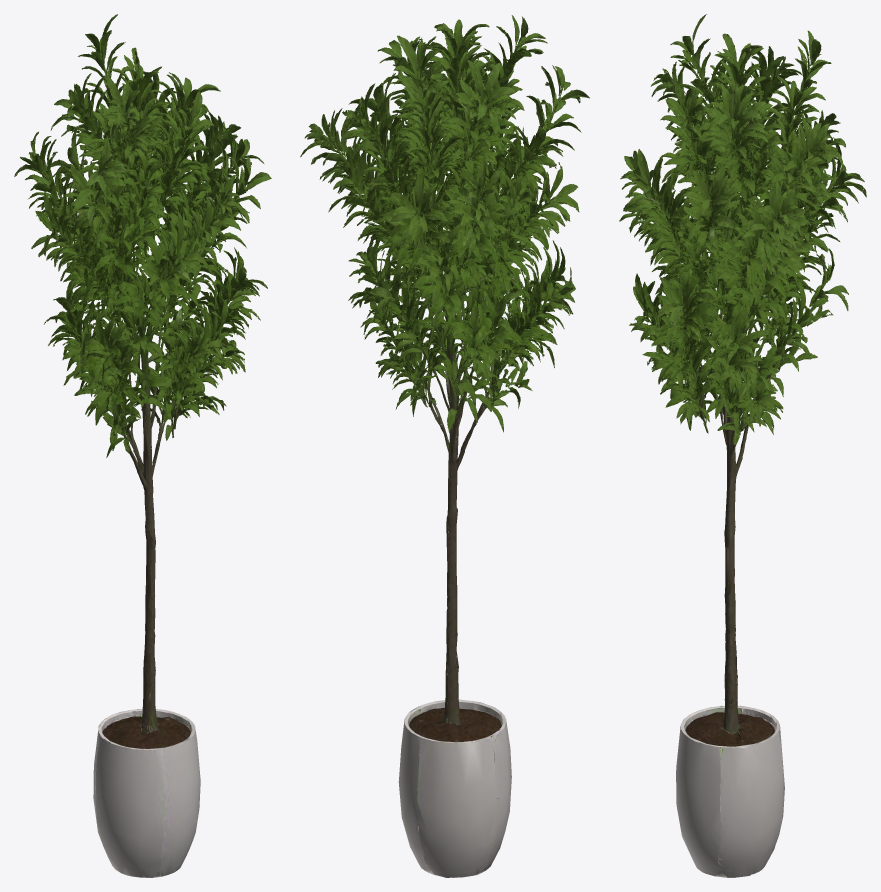
Rendered from room_plant_large.glb.
The picture shows the model from 3 angles, left to right: view 1: azimuth 30°, elevation 25°; view 2: azimuth 150°, elevation 25°; view 3: azimuth 270°, elevation 25°; orthographic projection. The views are drawn at different scales.
Parts seen in each view (by area): view 1: mesh_node.002; view 2: mesh_node.002; view 3: mesh_node.002.
Boxes of the visible parts, box(x1,y1,x2,y2) form: mesh_node.002: box(14, 14, 271, 877); mesh_node.002: box(300, 15, 589, 877); mesh_node.002: box(619, 14, 866, 877).
Size of the model in its own units: 0.5475 by 1.85 by 0.4997.
1 material, 1 textured.
